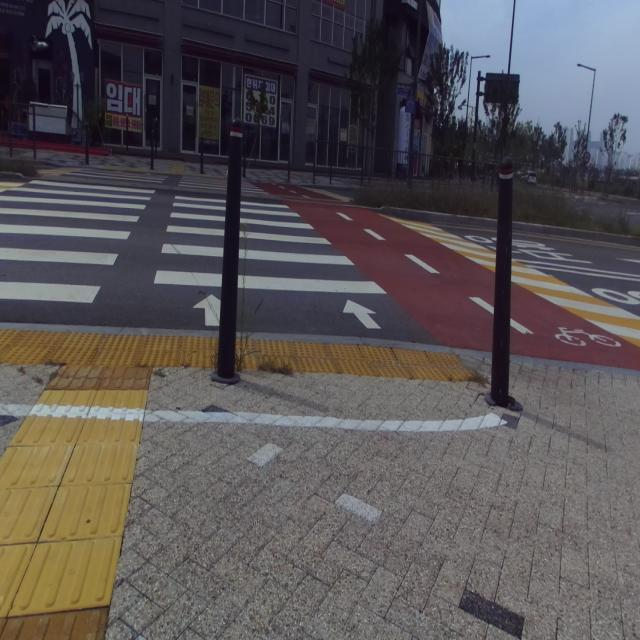횡단보도: (0, 168, 387, 329)
